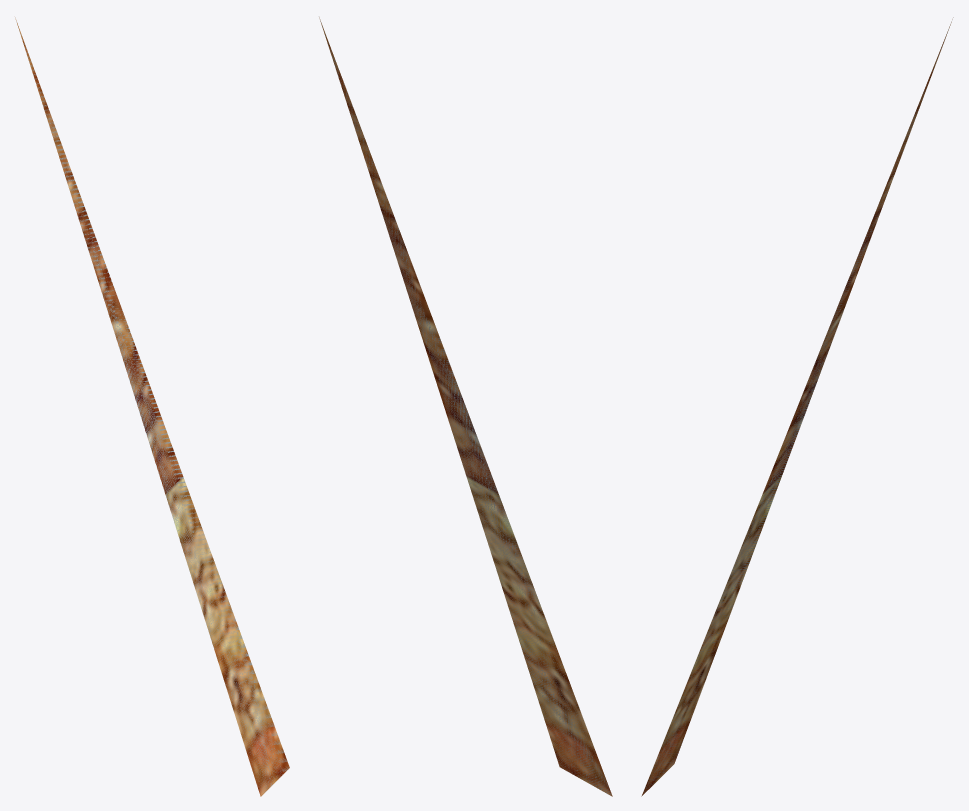
The model's file is 西庸城堡256.dae.
3 renders of one model, left to right at view 1: azimuth 90°, elevation 25°; view 2: azimuth 150°, elevation 25°; view 3: azimuth 270°, elevation 25°, orthographic. The views are drawn at different scales.
Parts seen in each view (by area): view 1: SketchUp; view 2: SketchUp; view 3: SketchUp.
Boxes of the visible parts, x1,y1,x2,y2 form: SketchUp: (15,17,289,796); SketchUp: (319,17,612,796); SketchUp: (641,17,953,796).
Bounding box in the file's own units: 21.56 × 40.93 × 118.
